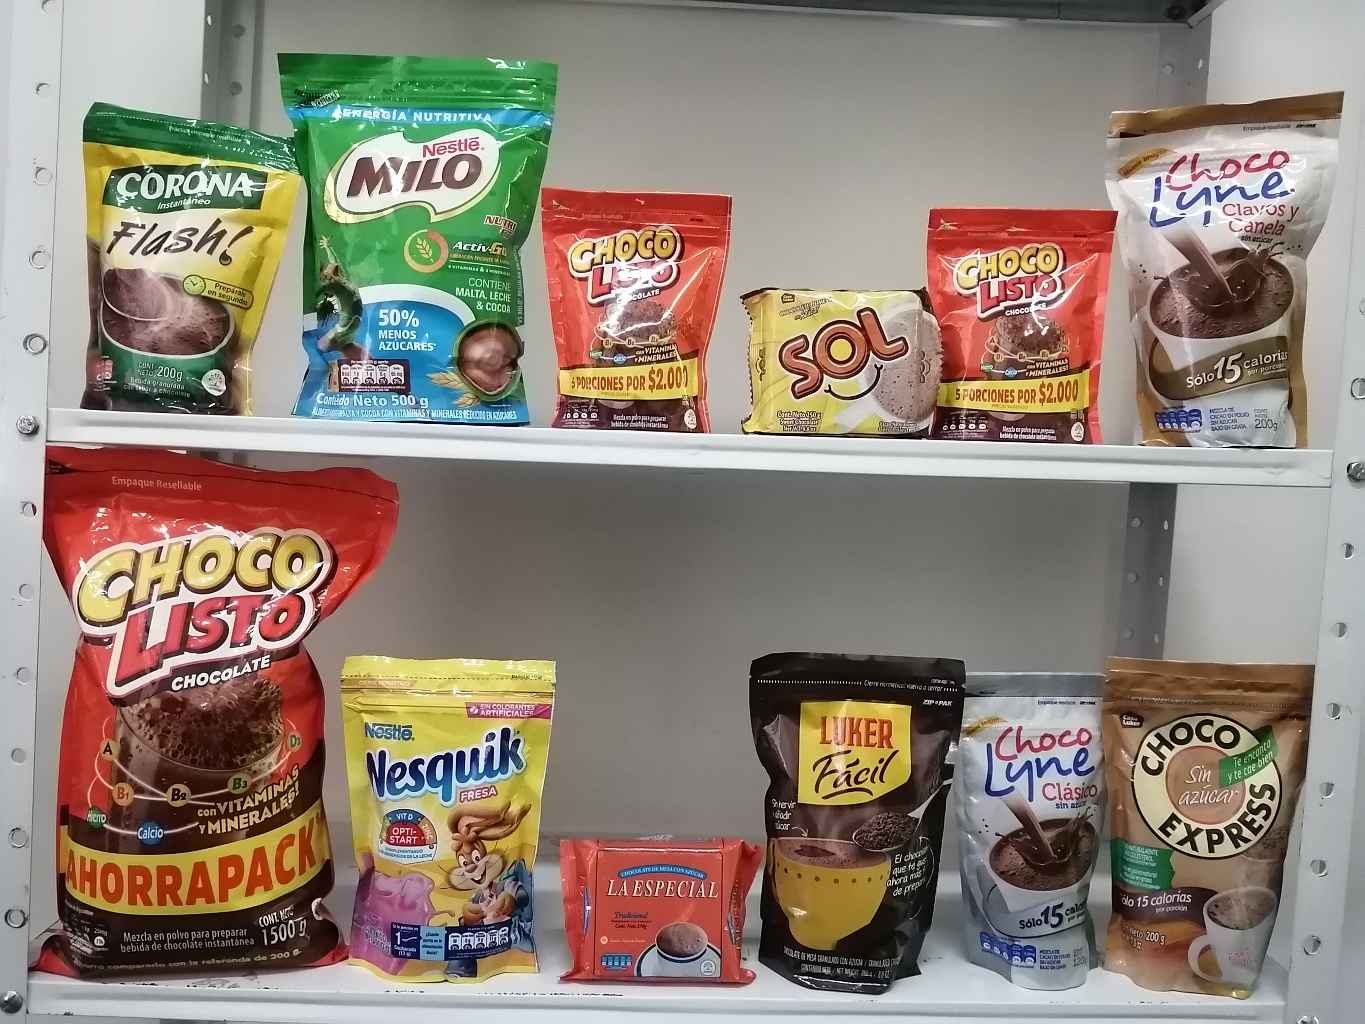COL0170103DYP1,500: (8, 436, 420, 1020)
COL0170205DYP50000: (262, 31, 577, 433)
COL0170305DYP20000: (296, 632, 569, 991)
